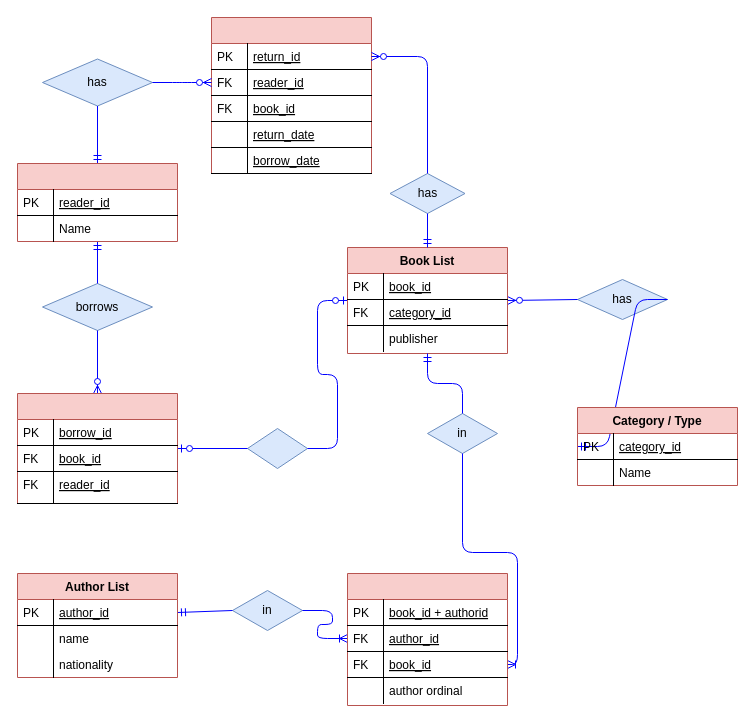
Image size: 755x724. Some labels were removed from this diagram. Each missing label, with the box of its shape:
Book Authors List: (346, 572, 508, 706)
is: (246, 428, 308, 468)
On Going Borrow: (16, 392, 178, 504)
Reader List: (16, 162, 178, 242)
Returned History: (210, 16, 372, 174)
